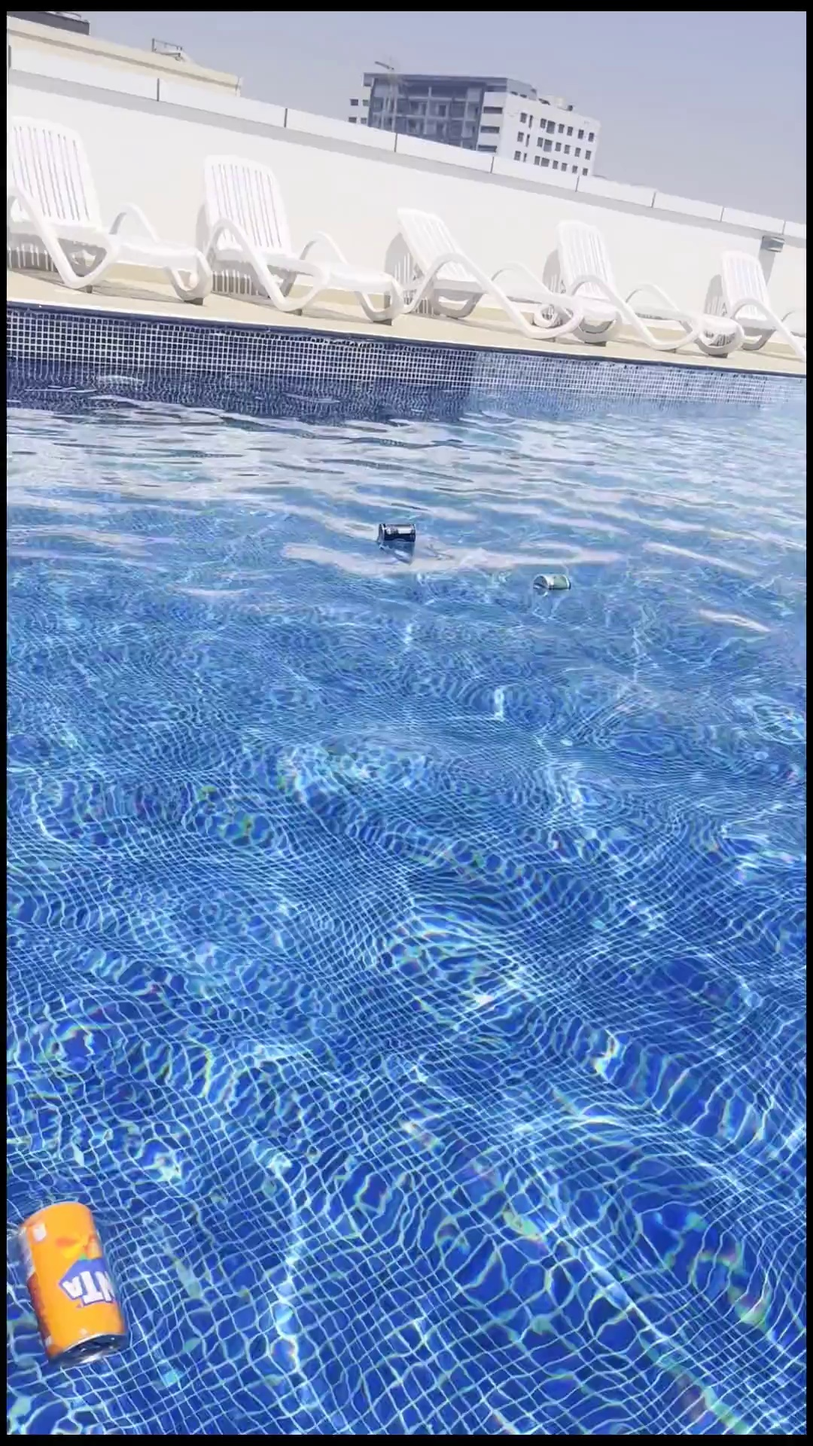debris: (8, 1174, 132, 1383), (530, 548, 570, 609), (373, 512, 416, 566)
